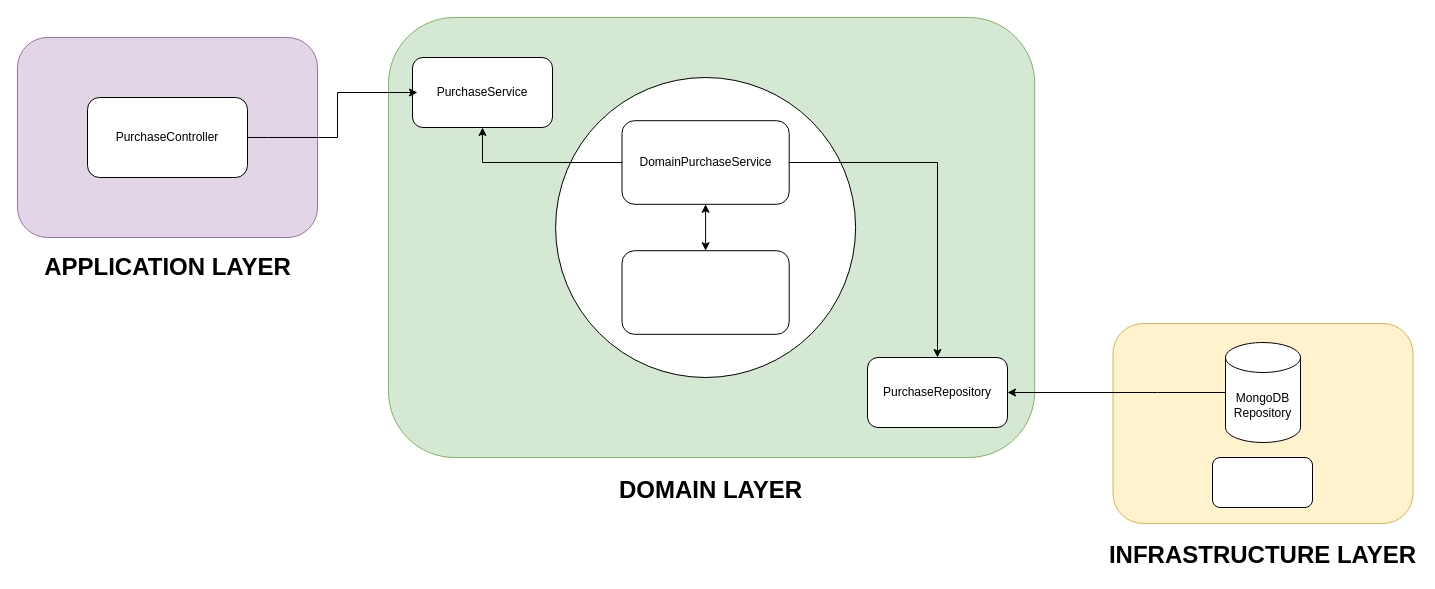
Image size: 1435x589. Some labels were removed from this diagram. The shapes that lost their labels are listed below. From the top down, each one's centre as x and y in pixels, then its label:
At (x=705, y=292): "Purchase".
At (x=1262, y=482): "MongoDBConfig".
